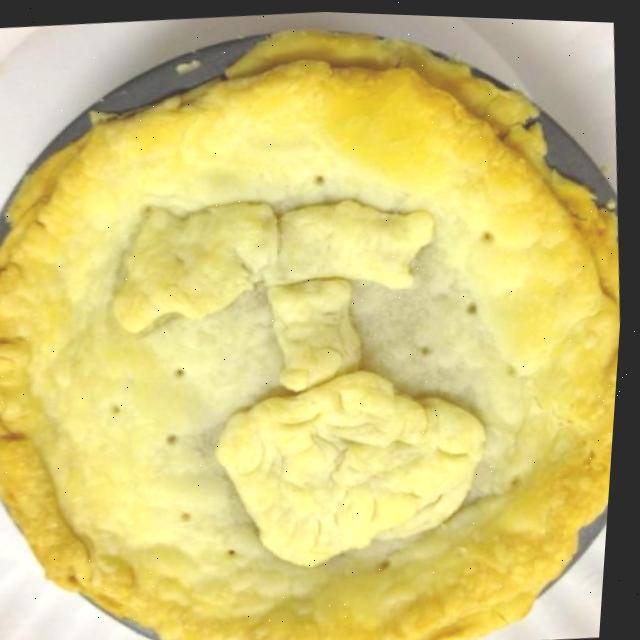炸货点心: (0, 13, 639, 640)
蛋糕甜品: (0, 13, 639, 640)
